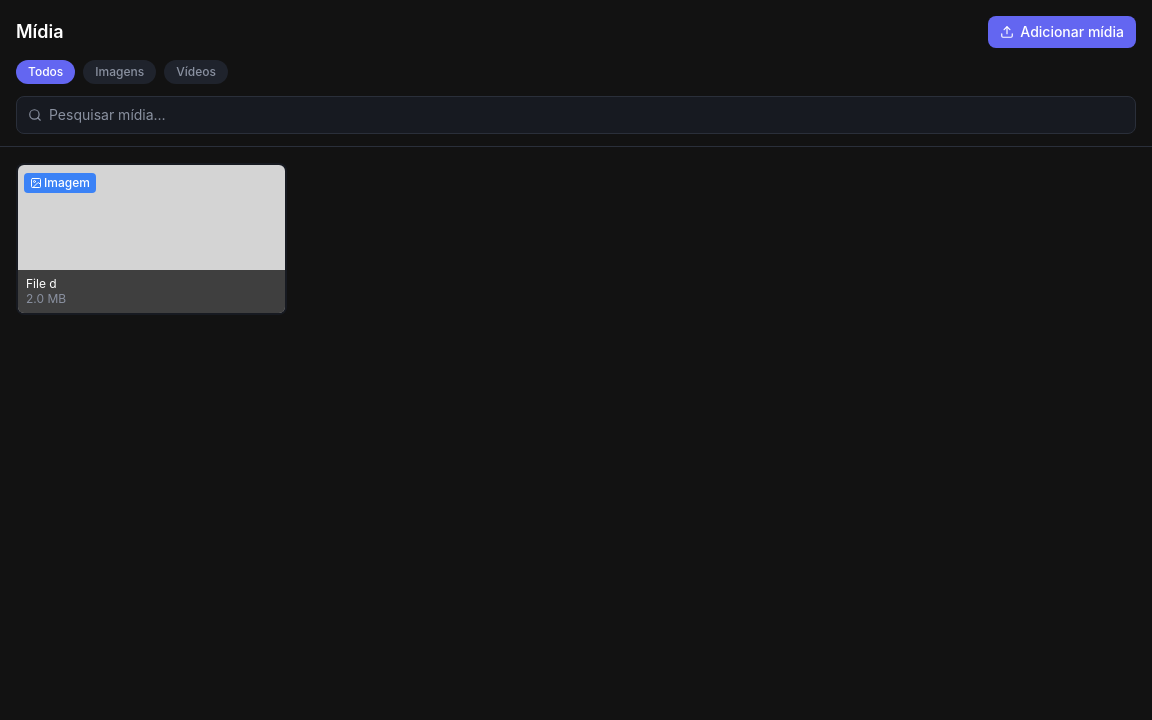
Scenario: MediaLibrary › delete with references shows blocked message
Click the button with test id "media-card-d": coordinates (152, 239) [16,163,287,315]
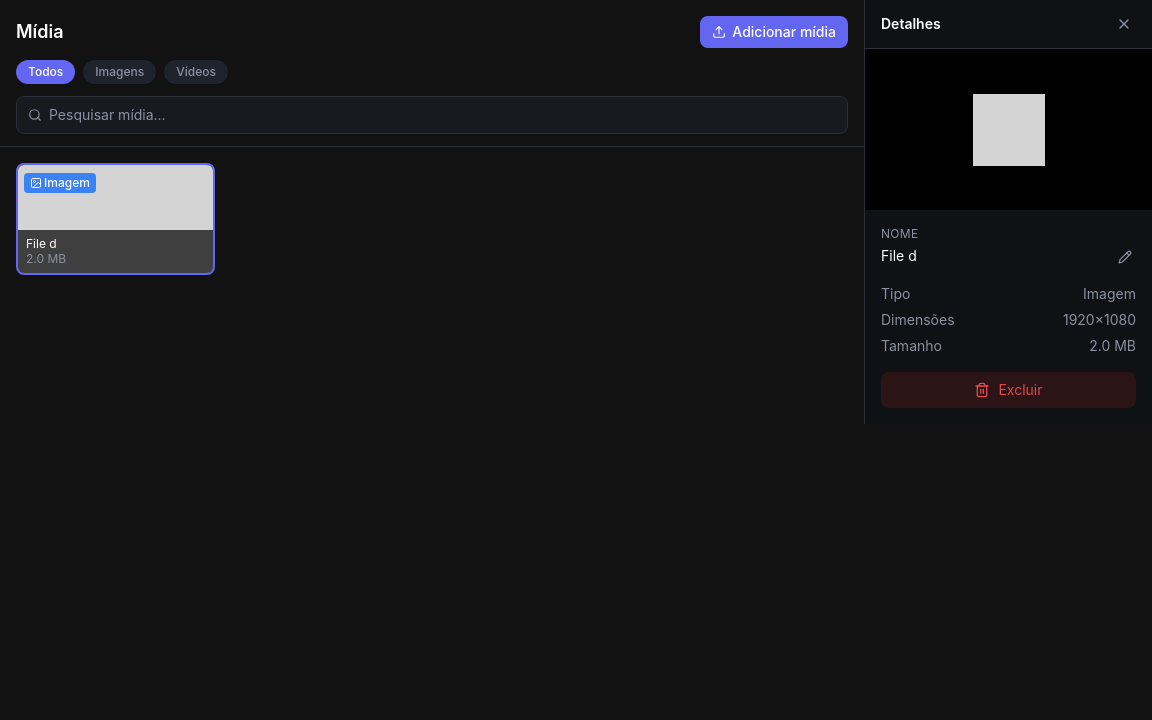
Expected: the button with test id "delete-button" is shown
Click the button with test id "delete-button": coordinates (1008, 390) [881,372,1136,408]
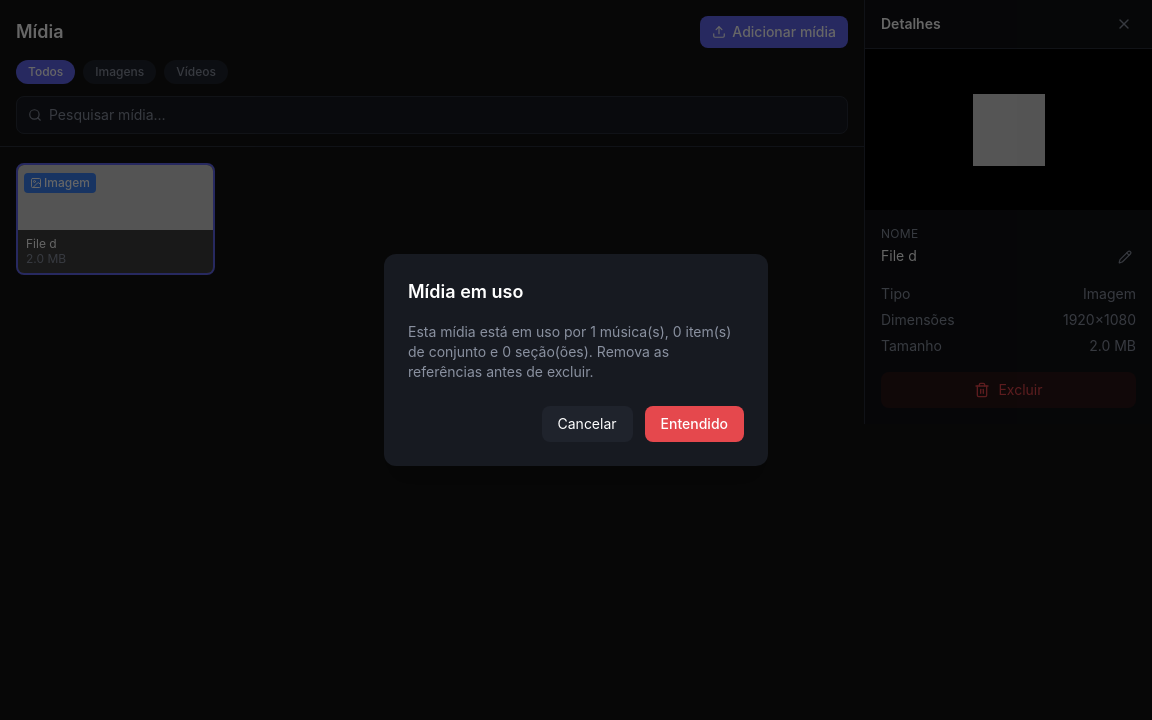
Expected: the text "Esta mídia está em uso por" is shown, [408,323,731,380]
